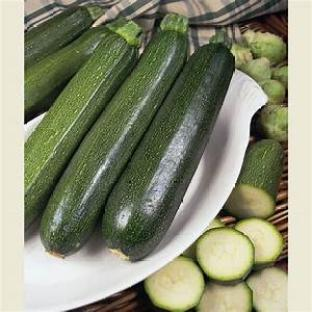Zucchini: (41, 14, 188, 255), (102, 44, 234, 261), (24, 27, 111, 121), (24, 6, 102, 68), (225, 140, 282, 218), (196, 227, 254, 282), (145, 256, 204, 310), (235, 218, 282, 269), (247, 268, 288, 311), (197, 281, 252, 311), (183, 242, 196, 260)
